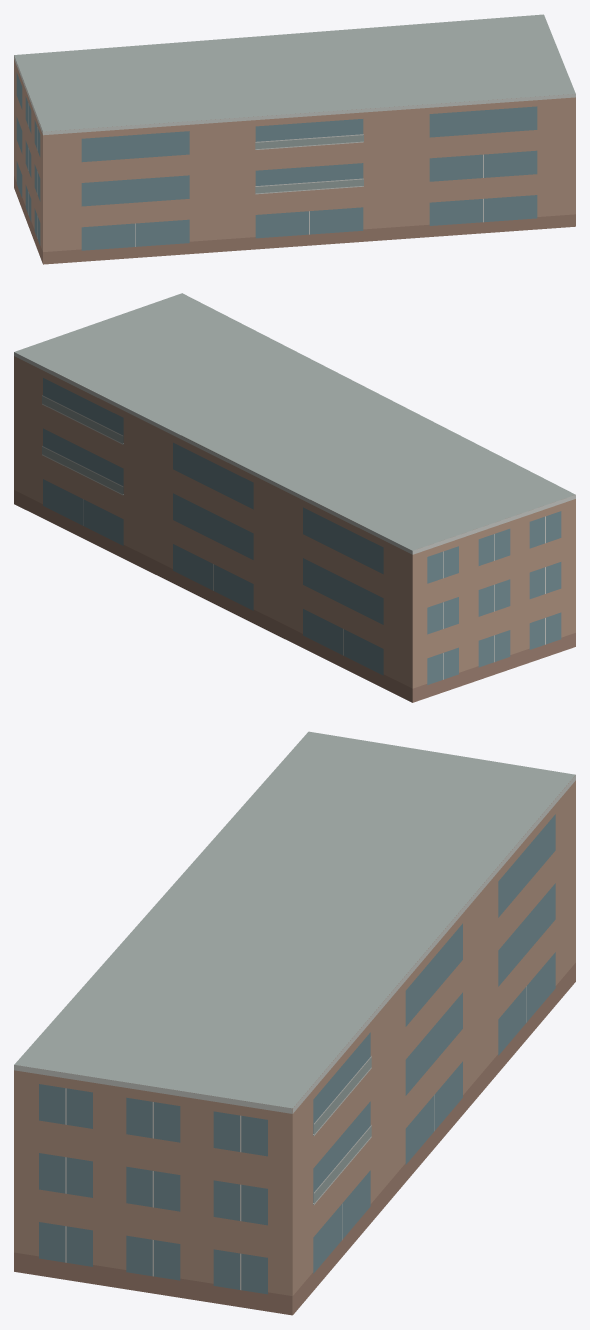
Rendered from survey-upis-32491258.glb.
3 views of the same model, one above another, from view 1: azimuth 30°, elevation 25°; view 2: azimuth 150°, elevation 25°; view 3: azimuth 270°, elevation 25° (orthographic). The views are drawn at different scales.
Visible parts, largest first — view 1: survey-upis-32491258.tmp; view 2: survey-upis-32491258.tmp; view 3: survey-upis-32491258.tmp.
Boxes of the visible parts, x1,y1,x2,y2 form: survey-upis-32491258.tmp: (14,14,575,264); survey-upis-32491258.tmp: (14,293,575,702); survey-upis-32491258.tmp: (14,731,575,1315).
Bounding box in the file's own units: 35.76 × 9.15 × 22.52.
